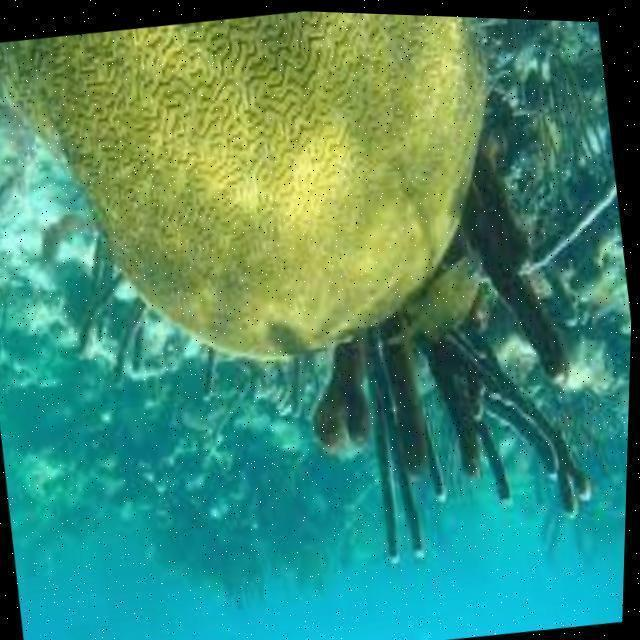Healthy Coral: (0, 0, 534, 411)
